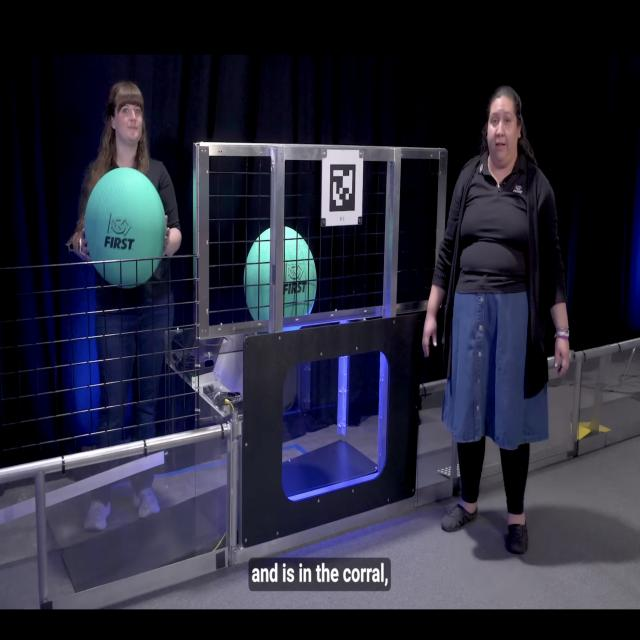algae: (83, 168, 167, 294), (242, 225, 320, 331)
